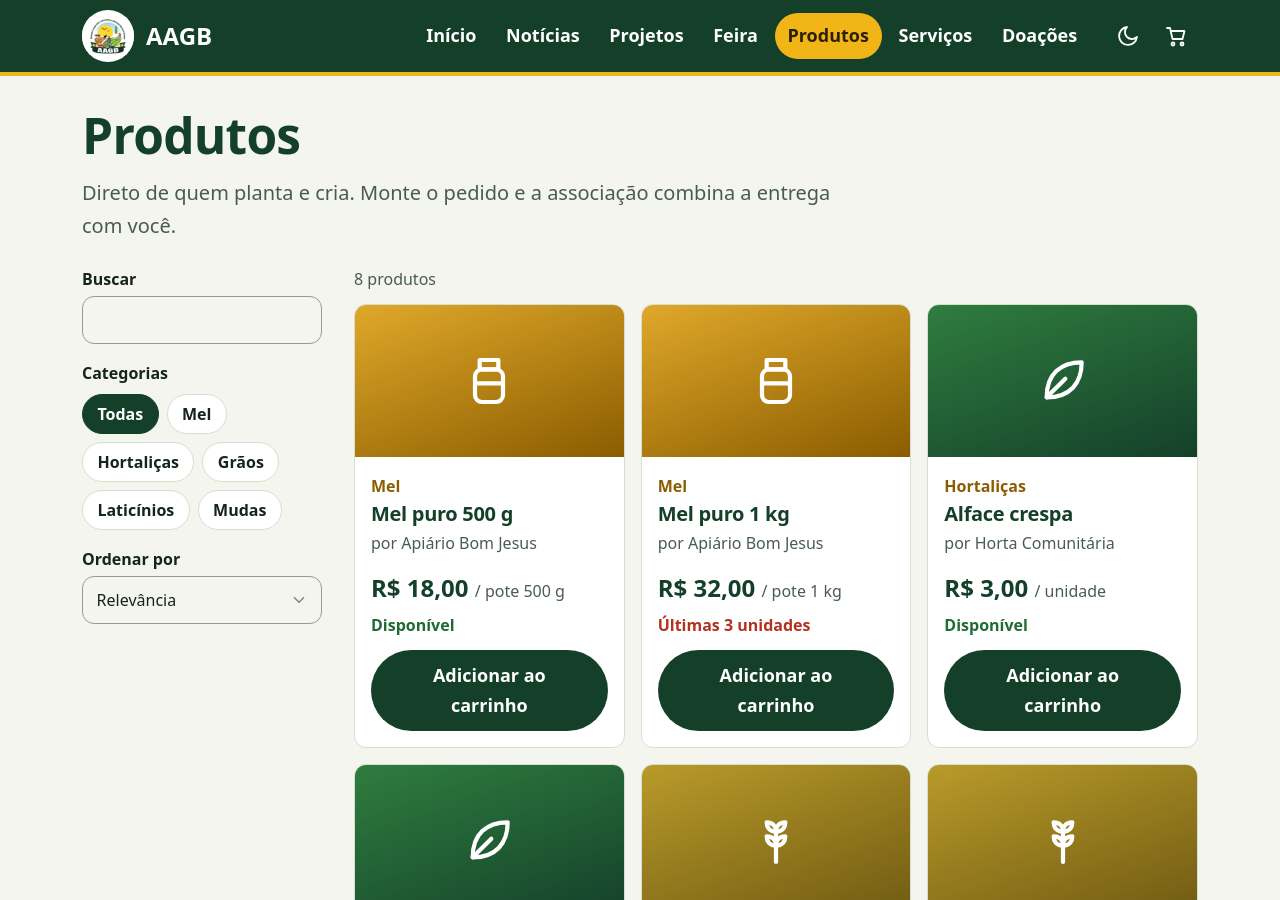
Test: App › lista produtos e adiciona um ao carrinho
The width and height of the screenshot is (1280, 900).
# A página carrega sob demanda (import dinâmico) e pode demorar quando os testes rodam em paralelo.
Click the button "Adicionar ao carrinho" below "R$ 18,00": [489, 691] box [371, 650, 608, 731]
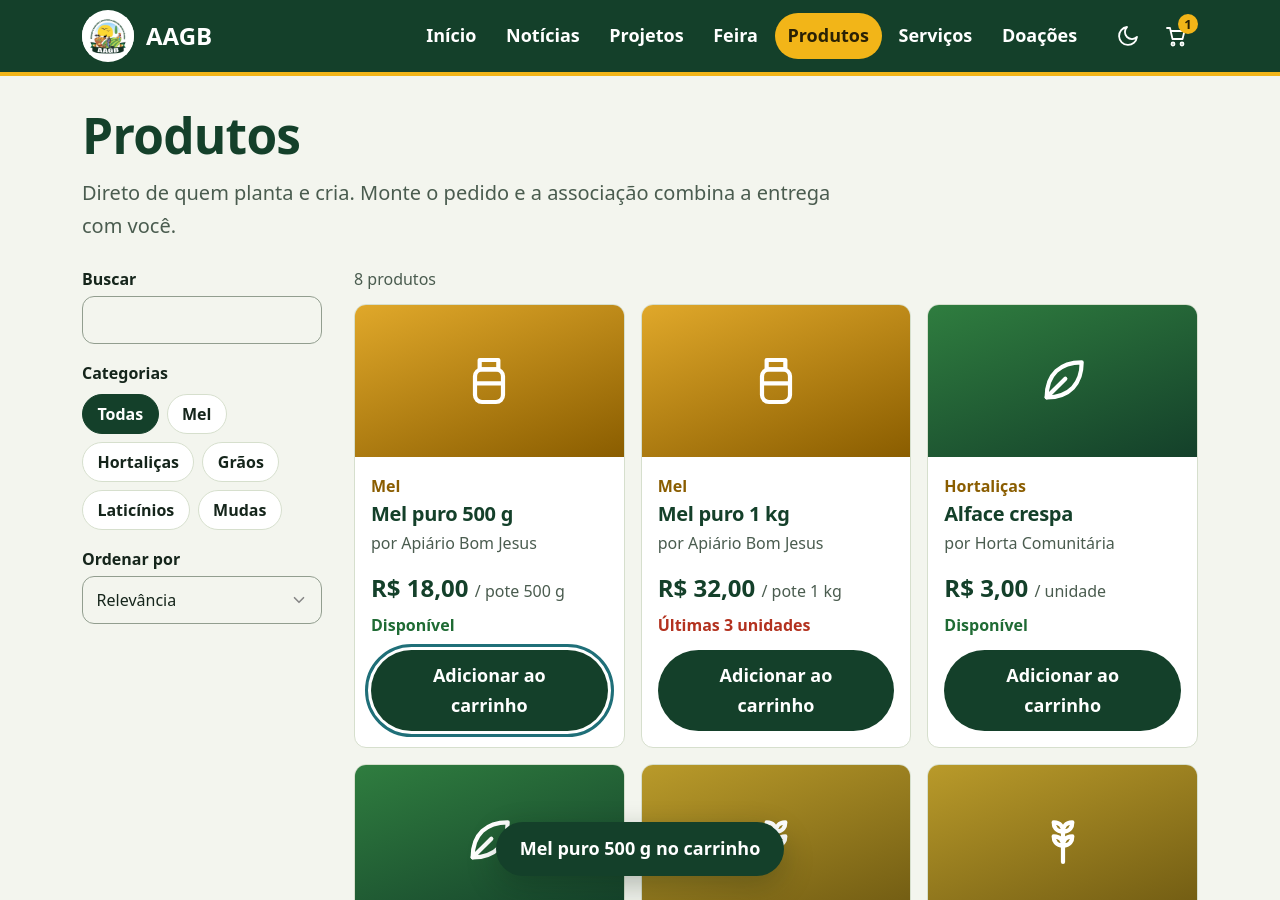
Result: the button named "carrinho, 1 item" is shown at [1154, 14, 1198, 58]
